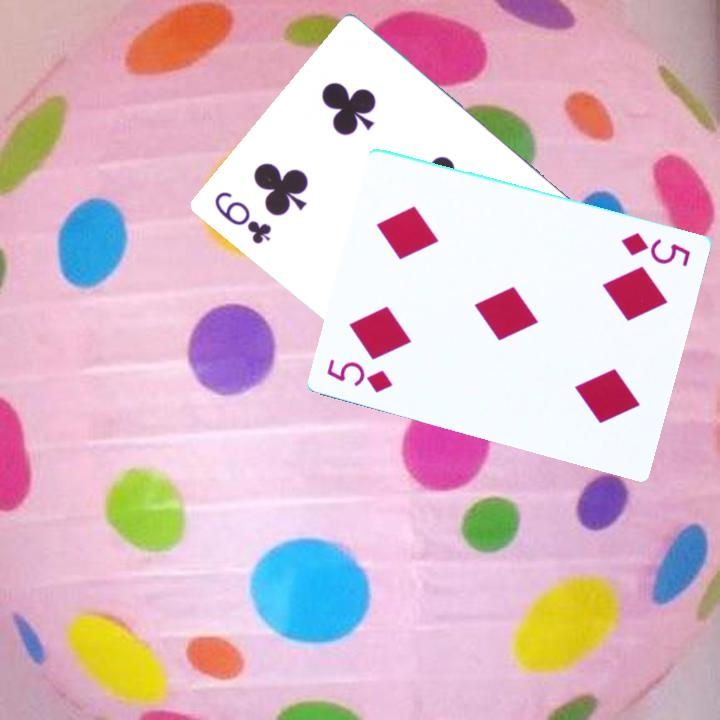5d: (618, 228, 694, 269), (324, 355, 397, 396)
6c: (210, 187, 274, 248)
